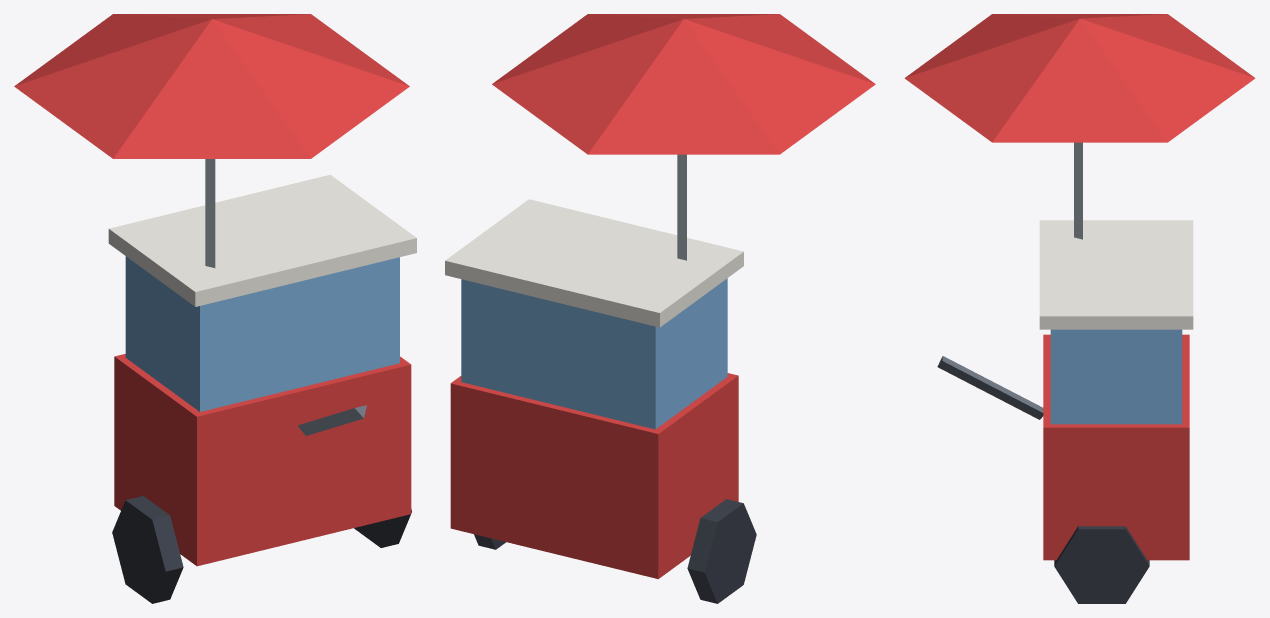
The model's file is carrinho_pipoca.glb.
3 views of the same model, side by side, from view 1: azimuth 30°, elevation 25°; view 2: azimuth 150°, elevation 25°; view 3: azimuth 270°, elevation 25° (orthographic). The views are drawn at different scales.
Parts seen in each view (by area): view 1: corpo; view 2: corpo; view 3: corpo.
Boxes of the visible parts, box(x1,y1,x2,y2) form: corpo: box(14, 14, 416, 603); corpo: box(445, 14, 875, 603); corpo: box(904, 14, 1255, 603).
Size of the model in its own units: 0.4678 by 0.7613 by 0.48.
